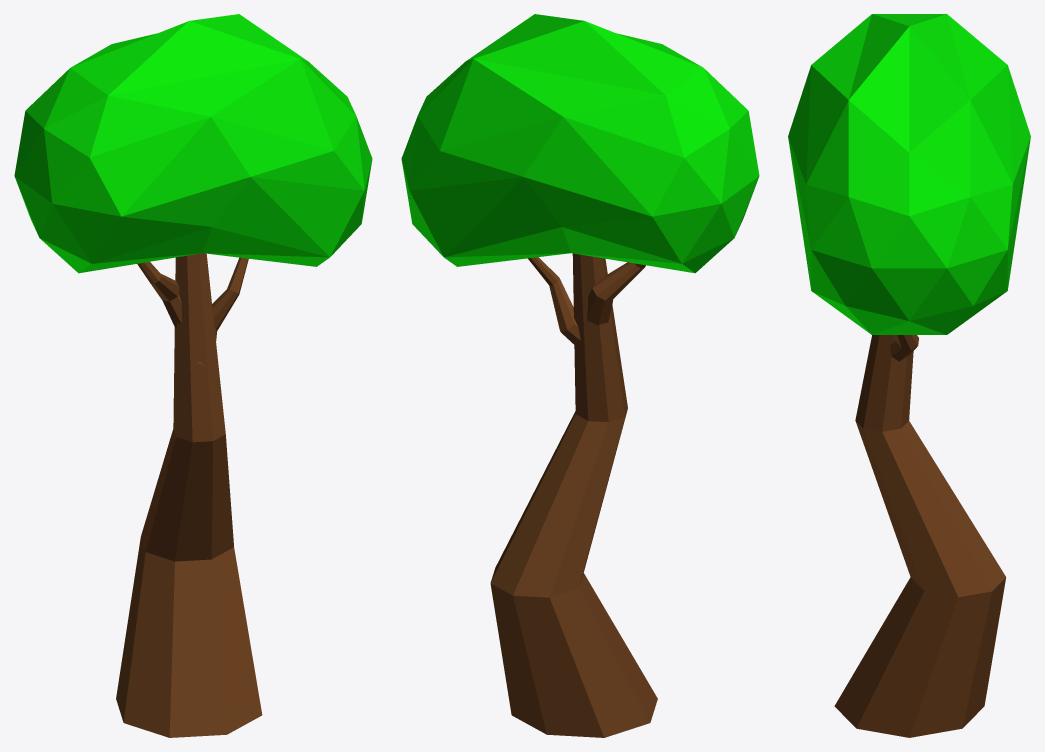
Rendered from Arbol.002.glb.
3 views of the same model, side by side, from view 1: azimuth 30°, elevation 25°; view 2: azimuth 150°, elevation 25°; view 3: azimuth 270°, elevation 25° (orthographic).
Parts seen in each view (by area): view 1: Arbol.002; view 2: Arbol.002; view 3: Arbol.002.
Part boxes in pixels (left/top/right/bottom): Arbol.002: left=14, top=14, right=372, bottom=737; Arbol.002: left=401, top=14, right=759, bottom=737; Arbol.002: left=788, top=14, right=1030, bottom=737.
Bounding box in the file's own units: 11.11 × 22.76 × 7.37.
